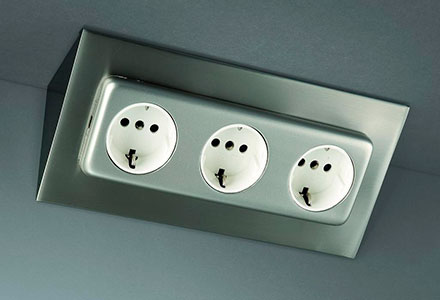raccoon: (104, 98, 179, 174), (197, 120, 270, 196), (287, 141, 356, 211)
